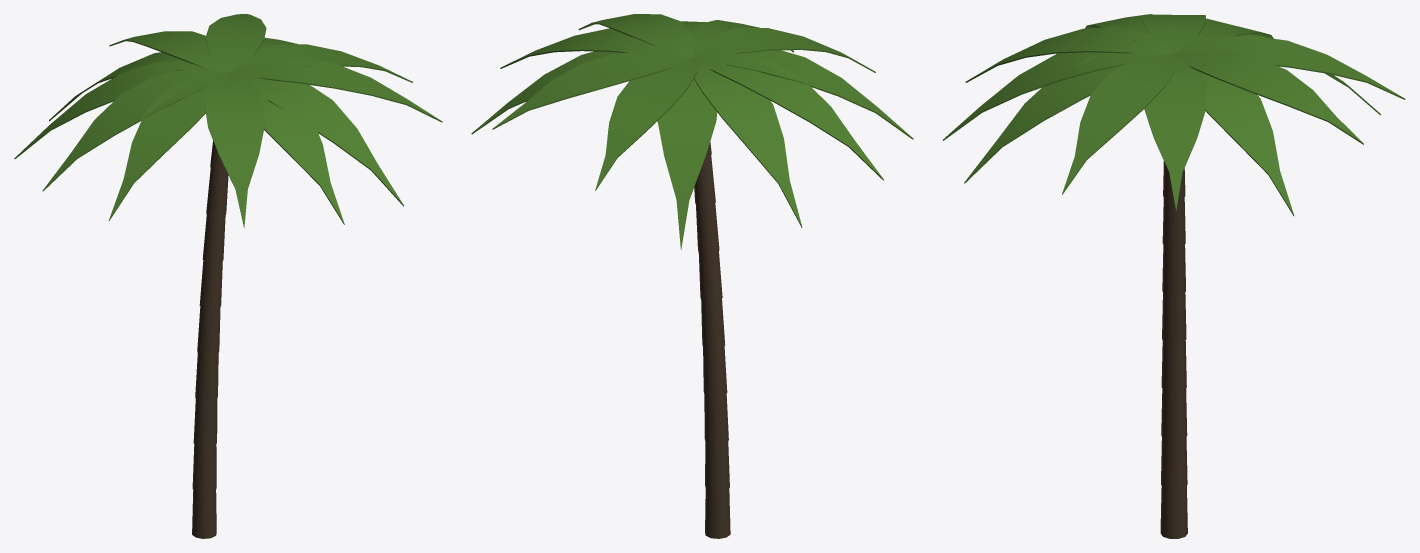
Rendered from Tree_Palm.fbx.
3 renders of one model, left to right at view 1: azimuth 30°, elevation 25°; view 2: azimuth 150°, elevation 25°; view 3: azimuth 270°, elevation 25°, orthographic. The views are drawn at different scales.
Parts seen in each view (by area): view 1: Tree_Palm_Mesh; view 2: Tree_Palm_Mesh; view 3: Tree_Palm_Mesh.
Part boxes in pixels (x1,y1,x2,y2): Tree_Palm_Mesh: (14,14,442,538); Tree_Palm_Mesh: (471,14,913,538); Tree_Palm_Mesh: (943,14,1405,538).
Size of the model in its own units: 6.42 by 7.6 by 6.41.
